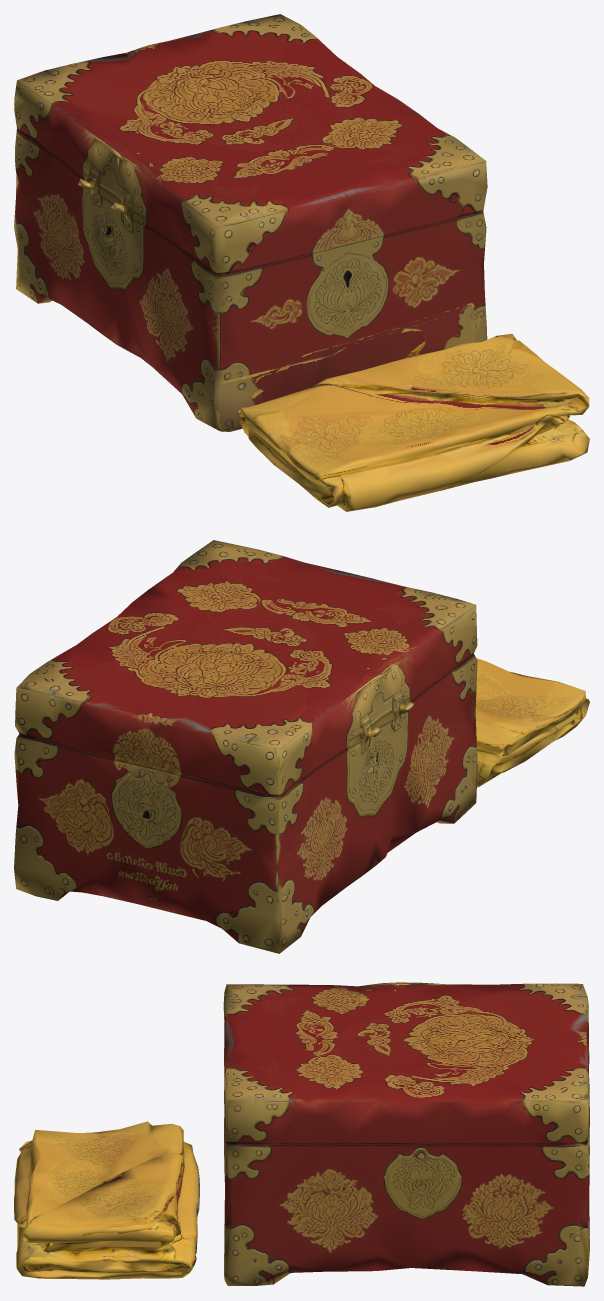
The model's file is PR_Gyojiham.fbx.
3 views of the same model, one above another, from view 1: azimuth 30°, elevation 25°; view 2: azimuth 150°, elevation 25°; view 3: azimuth 270°, elevation 25° (orthographic). The views are drawn at different scales.
Parts seen in each view (by area): view 1: texture_mapping; view 2: texture_mapping; view 3: texture_mapping.
Boxes of the visible parts, x1,y1,x2,y2 form: texture_mapping: (14,14,589,511); texture_mapping: (14,540,589,953); texture_mapping: (14,982,589,1286).
Size of the model in its own units: 0.5137 by 0.9925 by 0.3606.
1 material, 1 textured.
